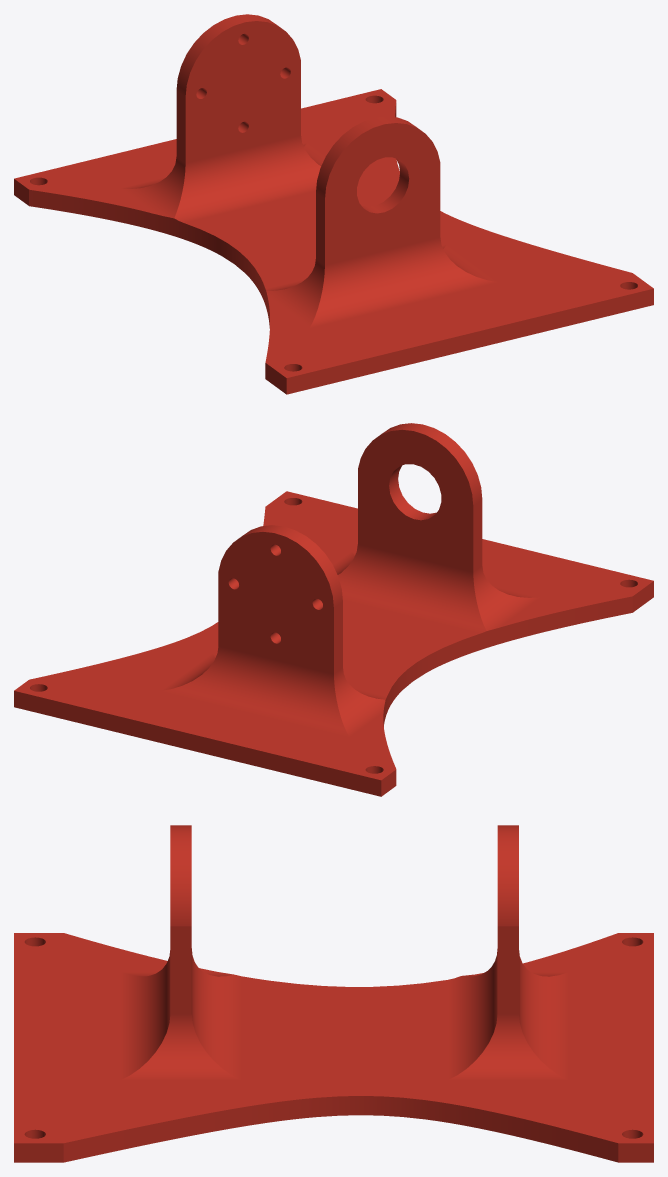
File: Left Foot.dae
3 renders of one model, top to bottom at view 1: azimuth 30°, elevation 25°; view 2: azimuth 150°, elevation 25°; view 3: azimuth 270°, elevation 25°, orthographic. The views are drawn at different scales.
Visible parts, largest first — view 1: Body1_Plastic_-_Glossy_(Red); view 2: Body1_Plastic_-_Glossy_(Red); view 3: Body1_Plastic_-_Glossy_(Red).
Boxes of the visible parts, bbox=[...] form: Body1_Plastic_-_Glossy_(Red): bbox=[14, 14, 653, 394]; Body1_Plastic_-_Glossy_(Red): bbox=[14, 423, 653, 796]; Body1_Plastic_-_Glossy_(Red): bbox=[14, 825, 653, 1162].
Size of the model in its own units: 0.07 by 0.09 by 0.0331.
